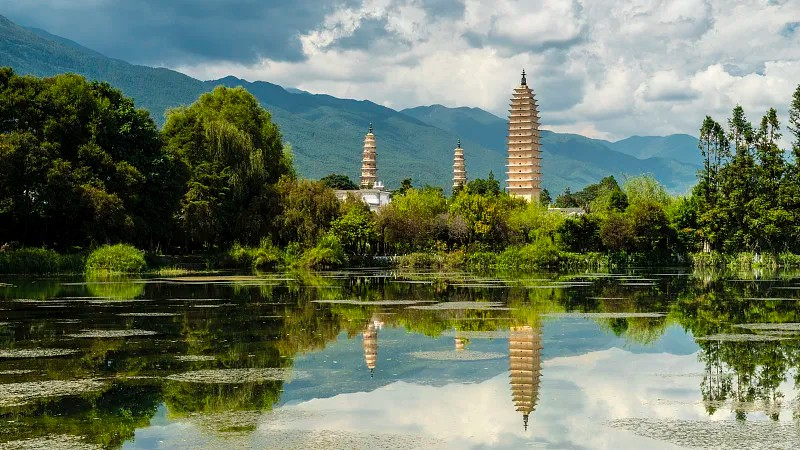ThreePagoda: (504, 69, 544, 202)
